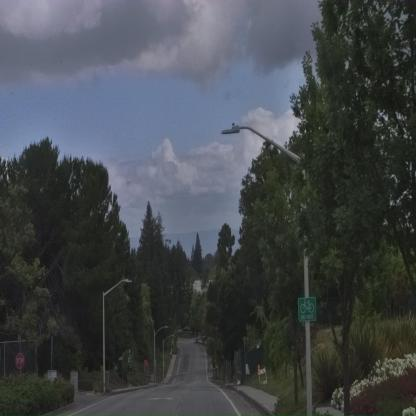sign: (297, 292, 318, 322)
stop sign: (15, 353, 25, 368)
